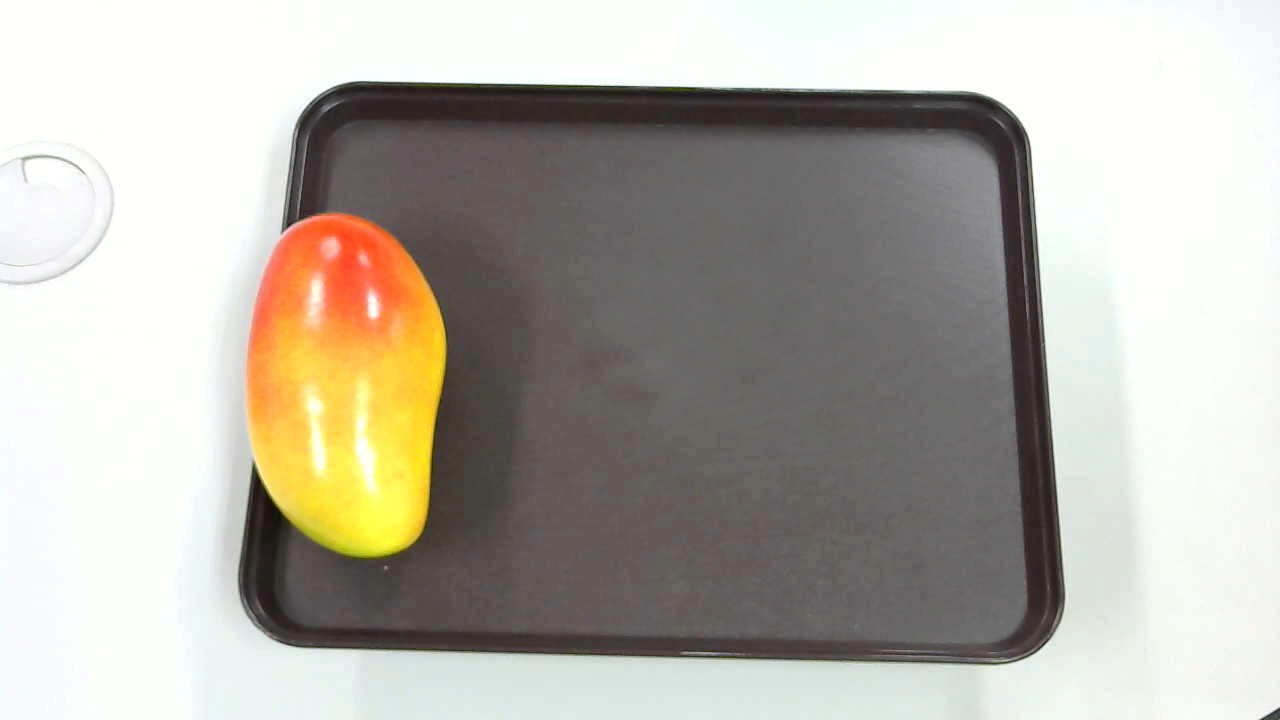red mango: (239, 207, 457, 574)
